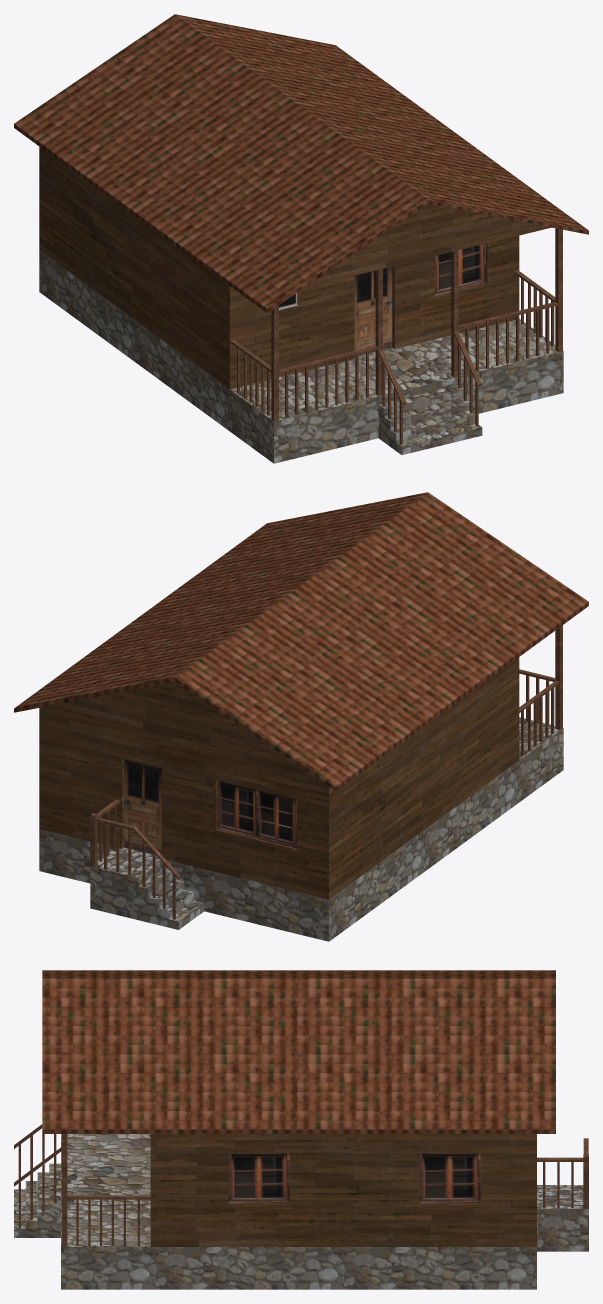
File: house4.glb
3 views of the same model, one above another, from view 1: azimuth 30°, elevation 25°; view 2: azimuth 150°, elevation 25°; view 3: azimuth 270°, elevation 25° (orthographic).
Visible parts, largest first — view 1: house4, house4_door1, house4_windows; view 2: house4, house4_windows, house4_door2; view 3: house4, house4_windows.
Part boxes in pixels (bbox=[...]): house4: bbox=[14, 14, 588, 463]; house4_door1: bbox=[354, 266, 392, 356]; house4_windows: bbox=[279, 243, 487, 309]; house4: bbox=[14, 492, 588, 941]; house4_windows: bbox=[216, 779, 296, 849]; house4_door2: bbox=[124, 759, 161, 854]; house4: bbox=[14, 970, 588, 1289]; house4_windows: bbox=[228, 1153, 480, 1204].
Bounding box in the file's own units: 8 × 5.6 × 12.2.
1 material, 1 textured.
